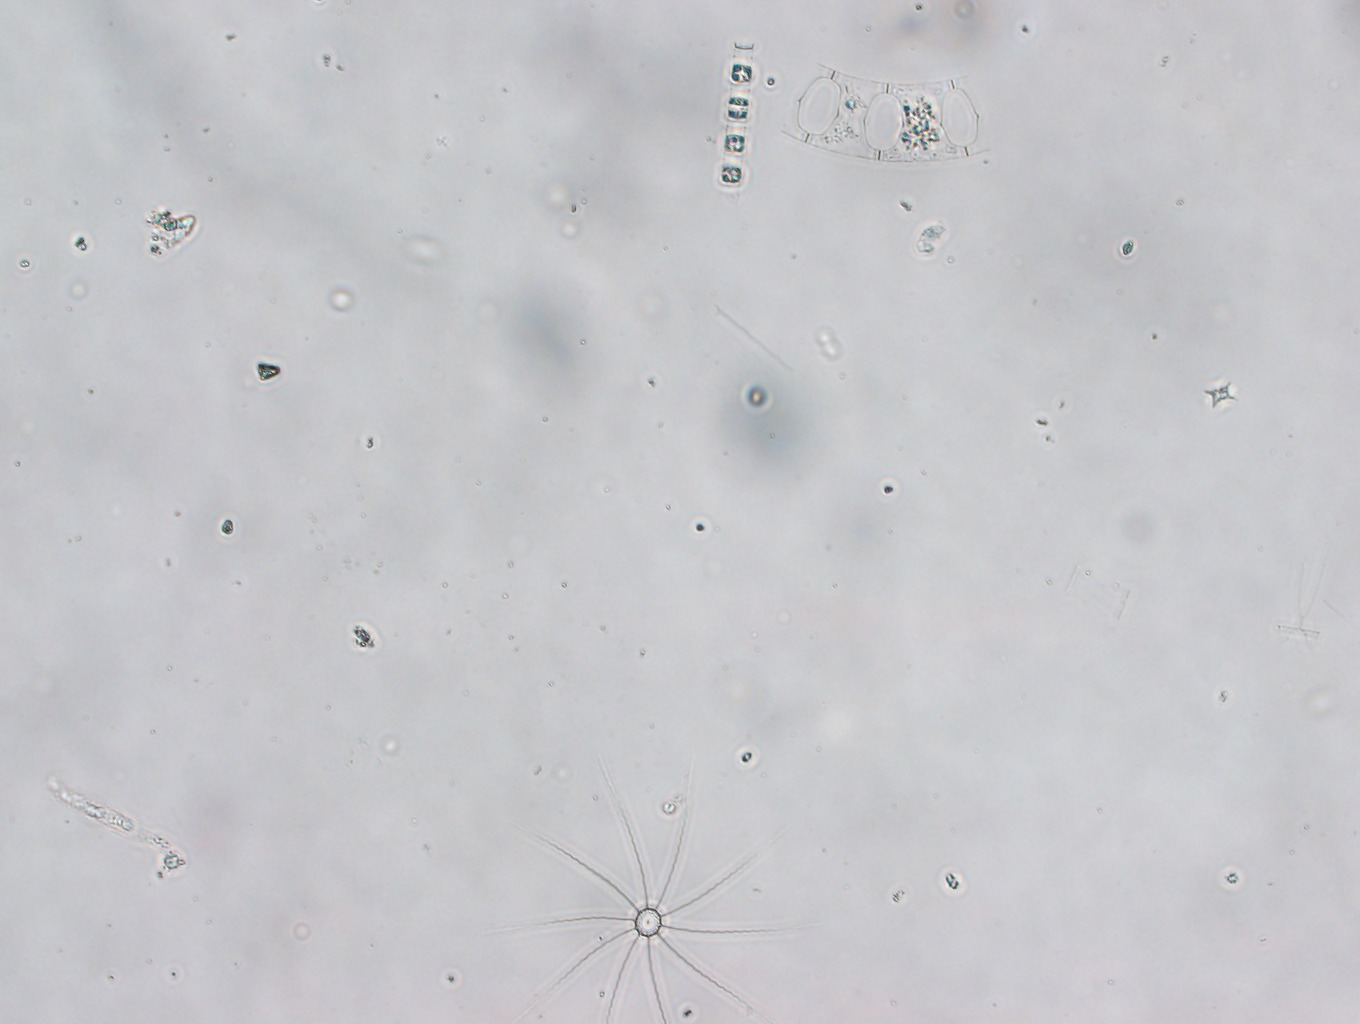bacteriastrum: (520, 767, 781, 1024)
eucampia: (782, 60, 990, 161)
skeletonema: (719, 41, 753, 190)
